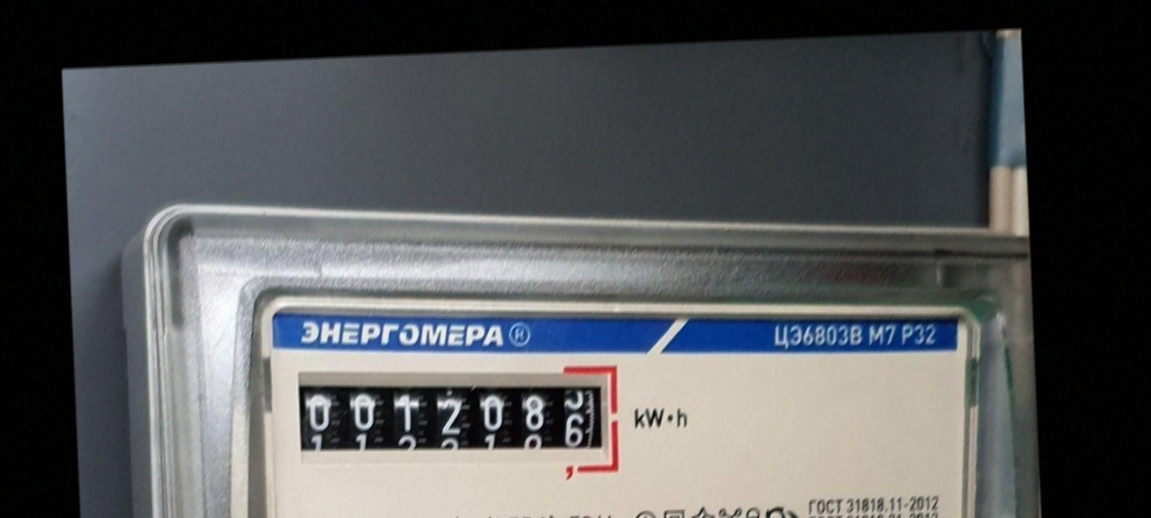0: (348, 389, 378, 432), (305, 389, 331, 432), (479, 392, 504, 431)
1: (393, 390, 417, 432)
2: (436, 395, 463, 435)
6: (559, 410, 585, 447)
8: (521, 391, 545, 432)
screen: (287, 344, 631, 497)
